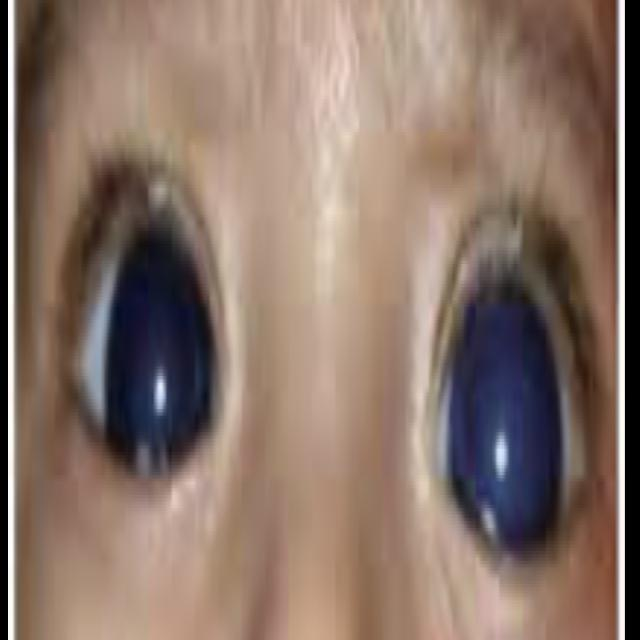reflexo-alterado: (457, 207, 569, 600)
reflexo-normal: (62, 157, 215, 495)
